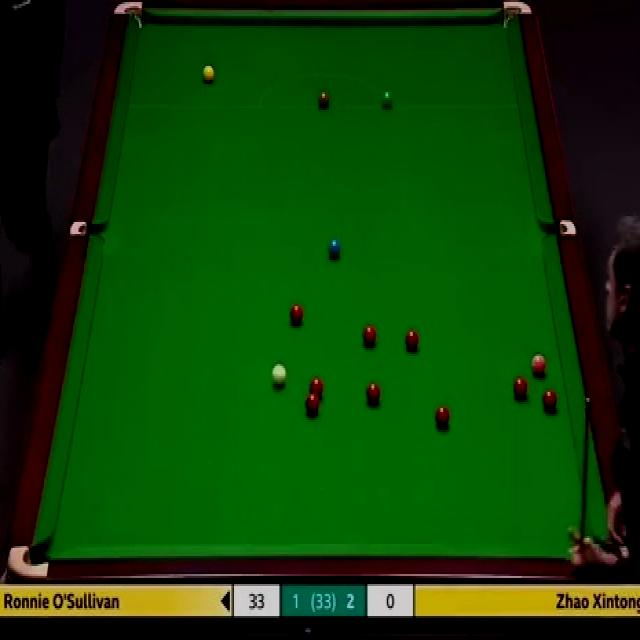blue-ball: (329, 237, 341, 260)
brown-ball: (317, 91, 331, 109)
green-ball: (380, 88, 395, 110)
pink-ball: (530, 353, 547, 375)
red-ball: (364, 380, 382, 408), (361, 324, 378, 350), (542, 388, 560, 412), (403, 328, 420, 351), (512, 375, 527, 400), (288, 300, 303, 325), (433, 406, 449, 427), (308, 377, 324, 397), (305, 396, 320, 416)
white-ball: (270, 363, 288, 391)
yellow-ball: (202, 64, 215, 86)
